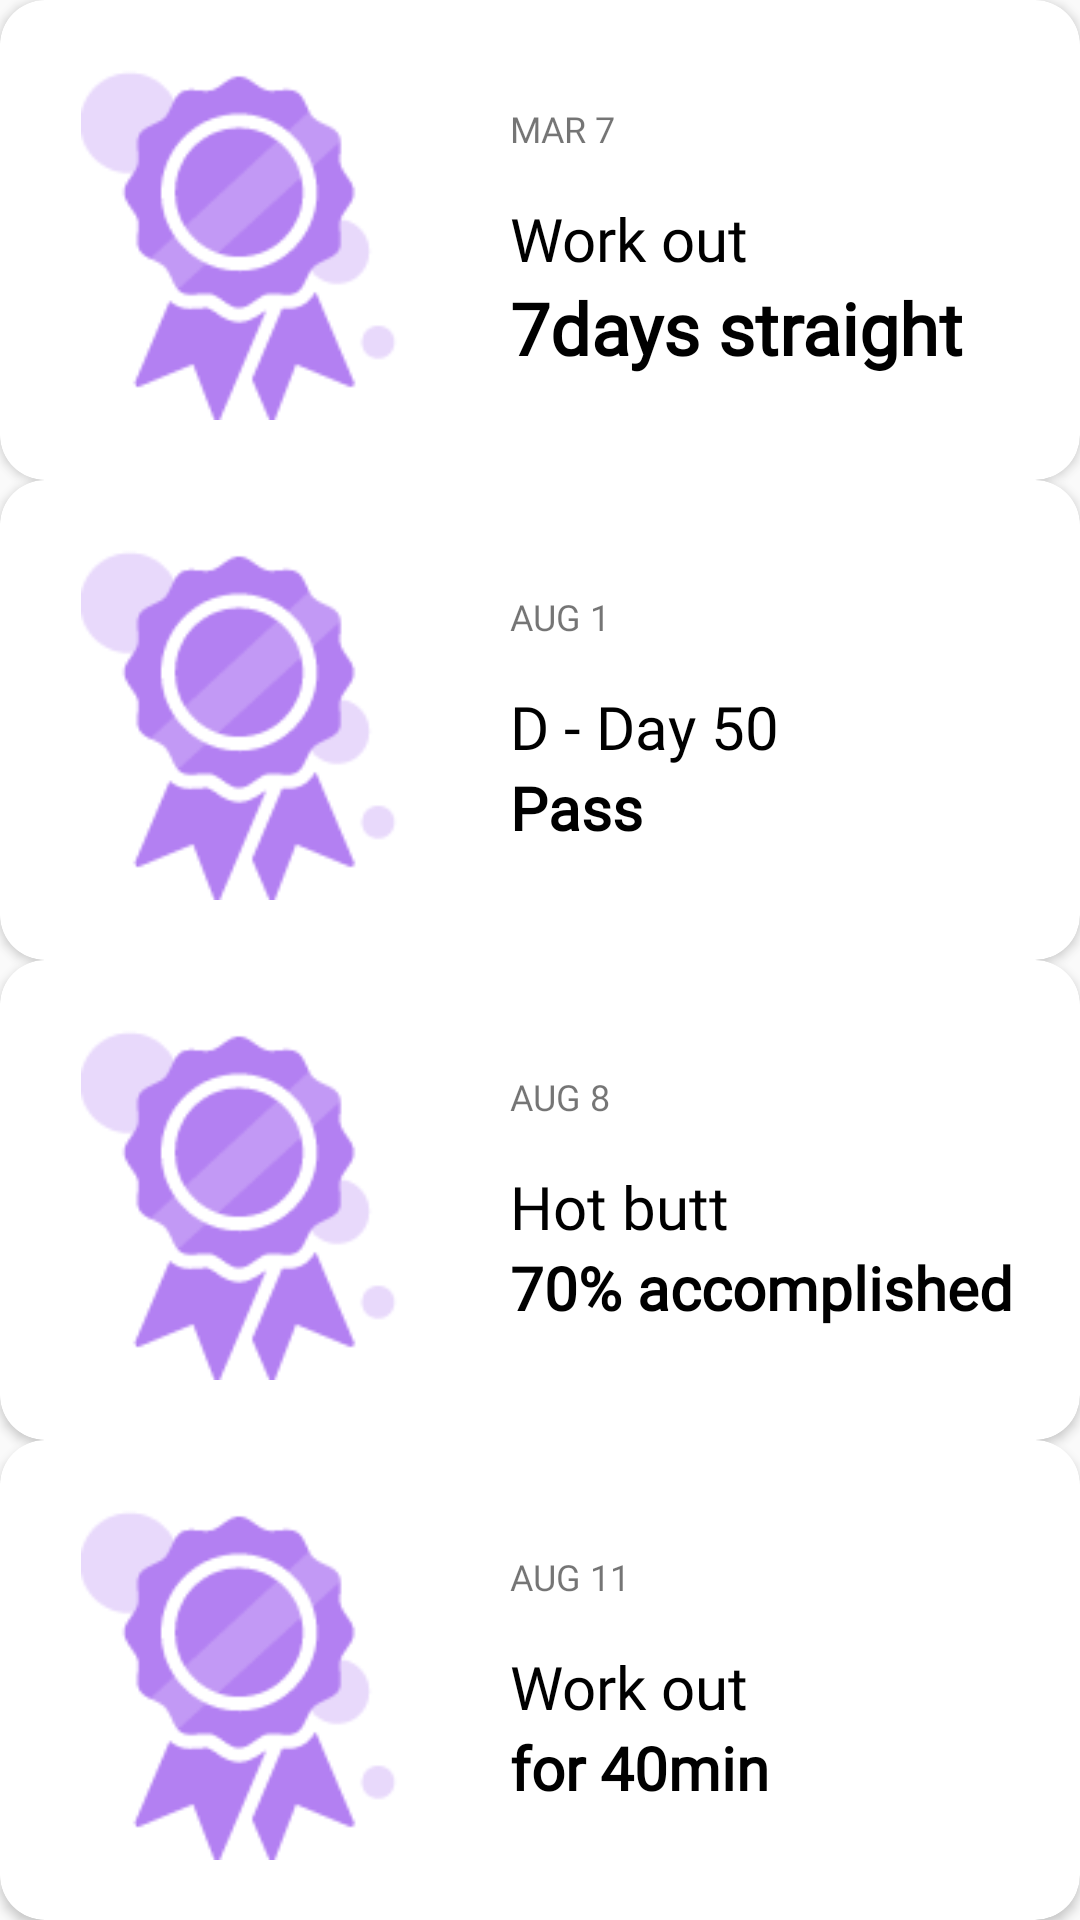

Screen size 1080×1920. Icon name, then its center in pixels as (x,y):
badge: (237,247), (237,727), (237,1207), (237,1687)
